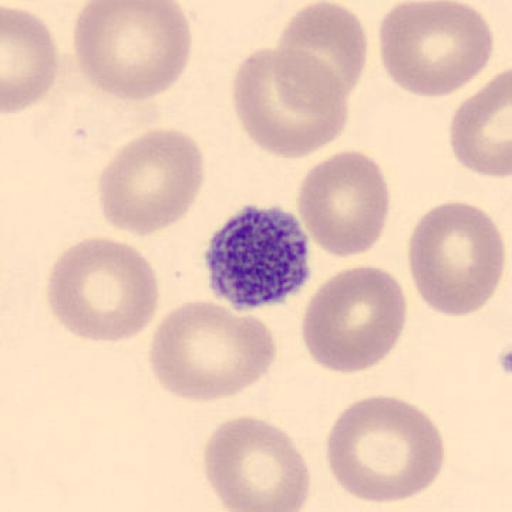Platelet: (202, 202, 314, 312)
RBC: (230, 45, 352, 160), (147, 298, 278, 404), (324, 394, 447, 504), (45, 235, 160, 345), (96, 126, 207, 238), (71, 0, 194, 100), (406, 199, 506, 319), (300, 264, 408, 375), (378, 0, 494, 99), (202, 413, 311, 512), (296, 148, 391, 258), (276, 1, 368, 95), (448, 67, 512, 180), (2, 5, 58, 115)
